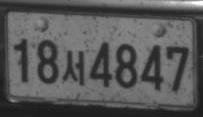1: (11, 38, 34, 83)
4: (139, 44, 165, 91), (88, 41, 113, 88)
7: (165, 45, 189, 92)
8: (34, 39, 60, 84), (114, 43, 138, 89)
서: (61, 48, 86, 87)
